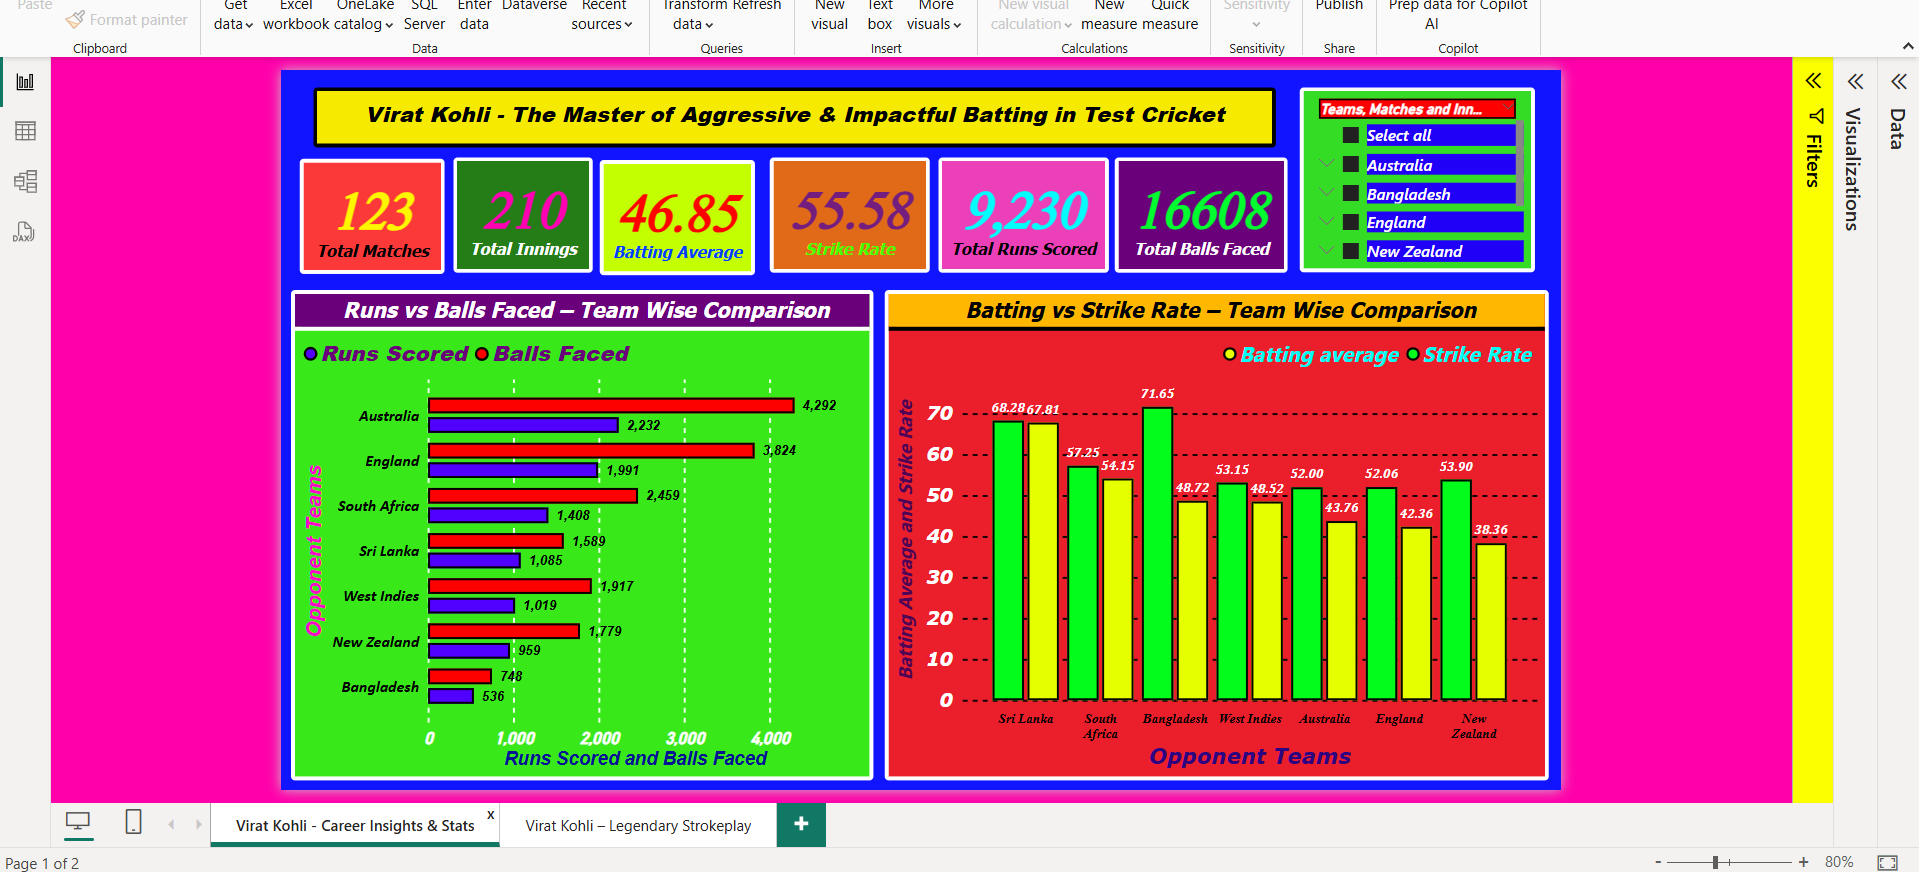

This screenshot's page, from the dashboard's own definition file:
{"tool":"powerbi","page":{"name":"Virat Kohli - Career Insights & Stats","canvas":[1280,720],"ordinal":0},"visuals":[{"type":"slicer","fields":{"Values":["Virat Kohli Performance against opponents.Team","Virat Kohli Performance against opponents.Matches","Virat Kohli Performance against opponents.Inns"]},"box":[1018.8,17.5,235,185],"z":0},{"type":"clusteredBarChart","title":"Runs vs Balls Faced – Team Wise Comparison","fields":{"Category":["Virat Kohli Performance against opponents.Team"],"Y":["Sum(Virat Kohli Performance against opponents.Runs)","Sum(Virat Kohli Performance against opponents.Balls faced)"]},"box":[10,220,582.5,490],"z":1000},{"type":"clusteredColumnChart","title":"Batting vs Strike Rate – Team Wise Comparison","fields":{"Category":["Virat Kohli Performance against opponents.Team"],"Y":["Sum(Virat Kohli Performance against opponents.Batting average)","Sum(Virat Kohli Performance against opponents.Strike Rate)"]},"box":[604,220,664,490],"z":2000},{"type":"card","fields":{"Values":["Virat Kohli Career Overview.Total Matches"]},"box":[19,89,145,115],"z":3000},{"type":"card","fields":{"Values":["Virat Kohli Career Overview.Total Innings"]},"box":[173,88,139,115],"z":4000},{"type":"card","fields":{"Values":["Virat Kohli Career Overview.Batting Average"]},"box":[319,90,155,115],"z":5000},{"type":"card","fields":{"Values":["Virat Kohli Career Overview.Strike Rate"]},"box":[489,88,160,115],"z":6000},{"type":"card","fields":{"Values":["Virat Kohli Career Overview.Total Runs Scored"]},"box":[657,88,170,115],"z":7000},{"type":"card","fields":{"Values":["Virat Kohli Career Overview.Total Balls Faced"]},"box":[834,88,173,115],"z":8000},{"type":"textbox","box":[32,18,962,60],"z":9000}]}

Visuals, with their boxes on the page's 1280x720 design canvas (x1, y1, x2, y2). These are canvas units, not pixel positions in the 1919x872 screenshot, which may show the page scaled, cropped or inside an application window:
slicer - Virat Kohli Performance against opponents.Team x Virat Kohli Performance against opponents.Matches: (1019,18,1254,202)
"Runs vs Balls Faced – Team Wise Comparison" clusteredBarChart: (10,220,592,710)
"Batting vs Strike Rate – Team Wise Comparison" clusteredColumnChart: (604,220,1268,710)
card - Virat Kohli Career Overview.Total Matches: (19,89,164,204)
card - Virat Kohli Career Overview.Total Innings: (173,88,312,203)
card - Virat Kohli Career Overview.Batting Average: (319,90,474,205)
card - Virat Kohli Career Overview.Strike Rate: (489,88,649,203)
card - Virat Kohli Career Overview.Total Runs Scored: (657,88,827,203)
card - Virat Kohli Career Overview.Total Balls Faced: (834,88,1007,203)
textbox: (32,18,994,78)
